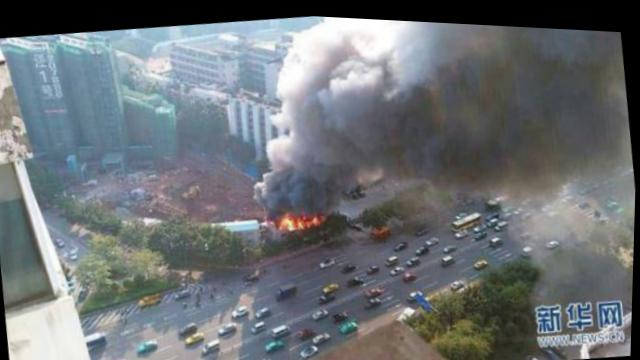fire: (296, 208, 321, 222), (279, 207, 297, 226)
